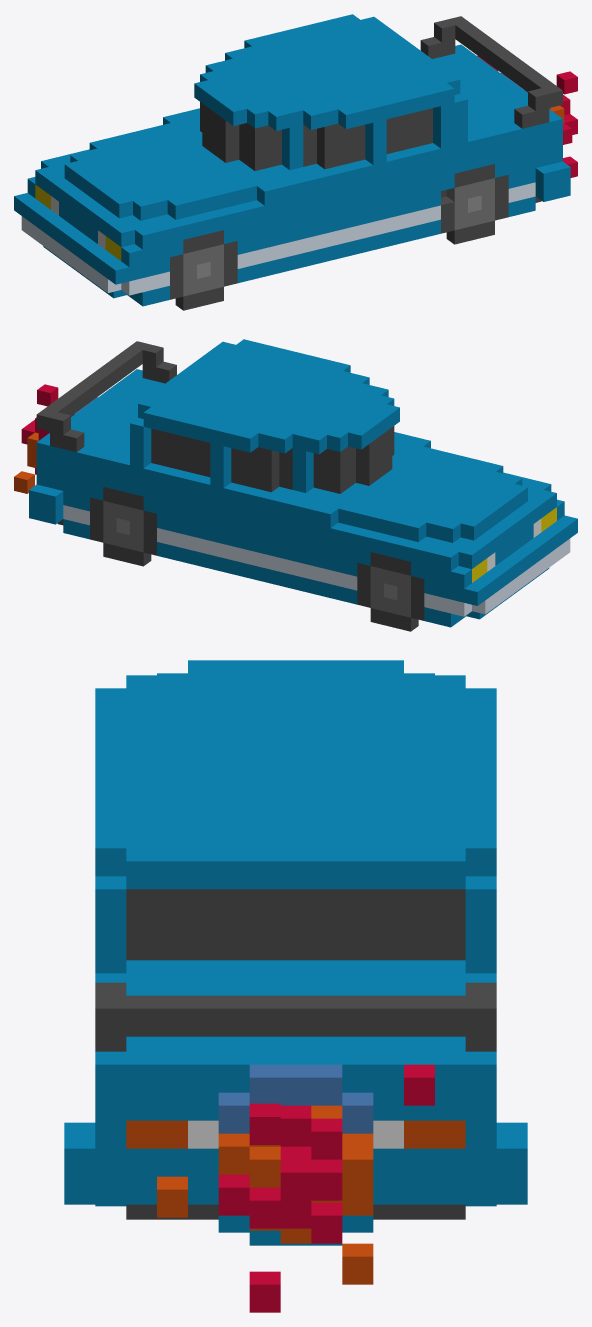
The model's file is car_10.glb.
3 views of the same model, one above another, from view 1: azimuth 30°, elevation 25°; view 2: azimuth 150°, elevation 25°; view 3: azimuth 270°, elevation 25° (orthographic). The views are drawn at different scales.
Parts seen in each view (by area): view 1: ObjObject.005; view 2: ObjObject.005; view 3: ObjObject.005.
Part boxes in pixels (<box>): ObjObject.005: <box>14,14,577,310</box>; ObjObject.005: <box>14,339,577,631</box>; ObjObject.005: <box>64,660,527,1312</box>.
Size of the model in its own units: 3.7 by 1.1 by 1.5.
Materials: 1 (1 with a texture image).
